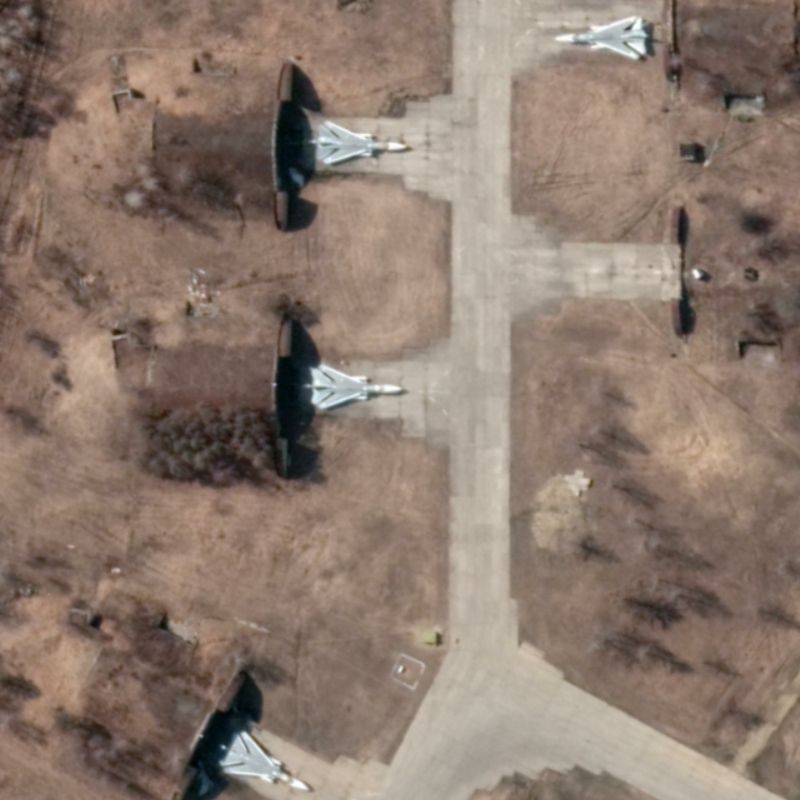A20: (216, 728, 313, 793), (307, 362, 404, 411), (313, 118, 409, 167), (552, 14, 650, 62)
